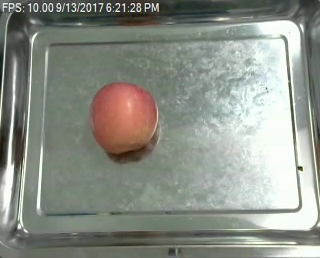Apple: (86, 80, 163, 155)
